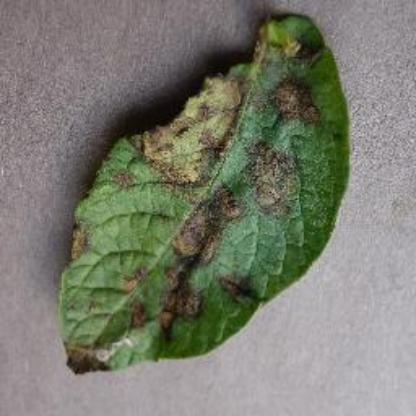Late-Blight: (54, 9, 352, 379)
